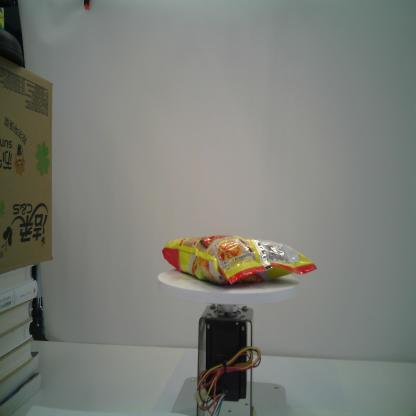Instant Noodles: (162, 234, 317, 288)
